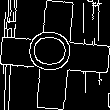O_E: (28, 31, 82, 79)
